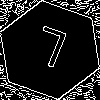L: (25, 25, 70, 78)
